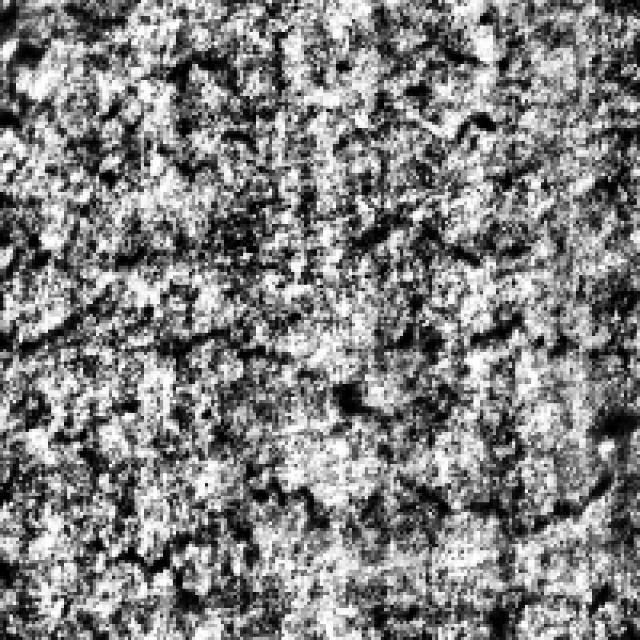Pitted_Surface: (13, 310, 637, 576), (0, 31, 496, 262)
